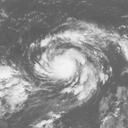cyclone: (28, 29, 100, 104)
